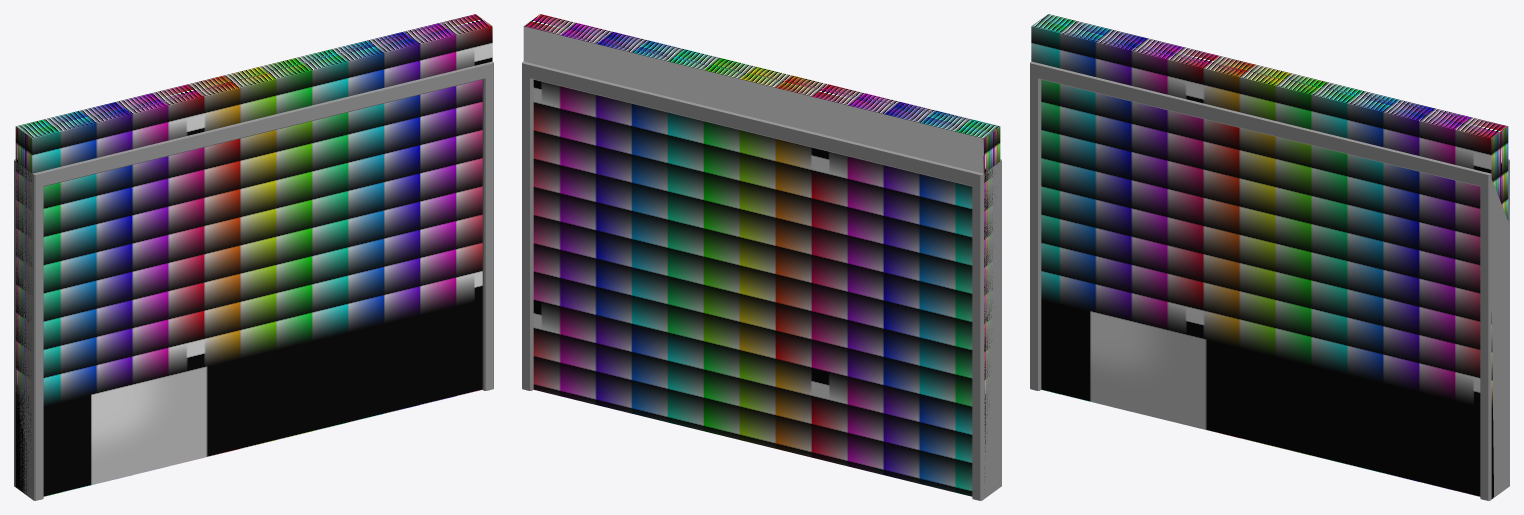
The model's file is interiorGlassWall_line_4_whit.fbx.
3 views of the same model, side by side, from view 1: azimuth 30°, elevation 25°; view 2: azimuth 150°, elevation 25°; view 3: azimuth 330°, elevation 25° (orthographic).
Visible parts, largest first — view 1: trigger, wall; view 2: trigger, wall; view 3: trigger, wall.
Boxes of the visible parts, <box> form: trigger: <box>15,14,492,496</box>; wall: <box>14,14,493,500</box>; trigger: <box>524,14,1000,496</box>; wall: <box>522,26,1001,500</box>; trigger: <box>1031,14,1508,499</box>; wall: <box>1030,14,1509,500</box>.
Size of what is drawn, in the model's own units: 400 by 300 by 31.96.
